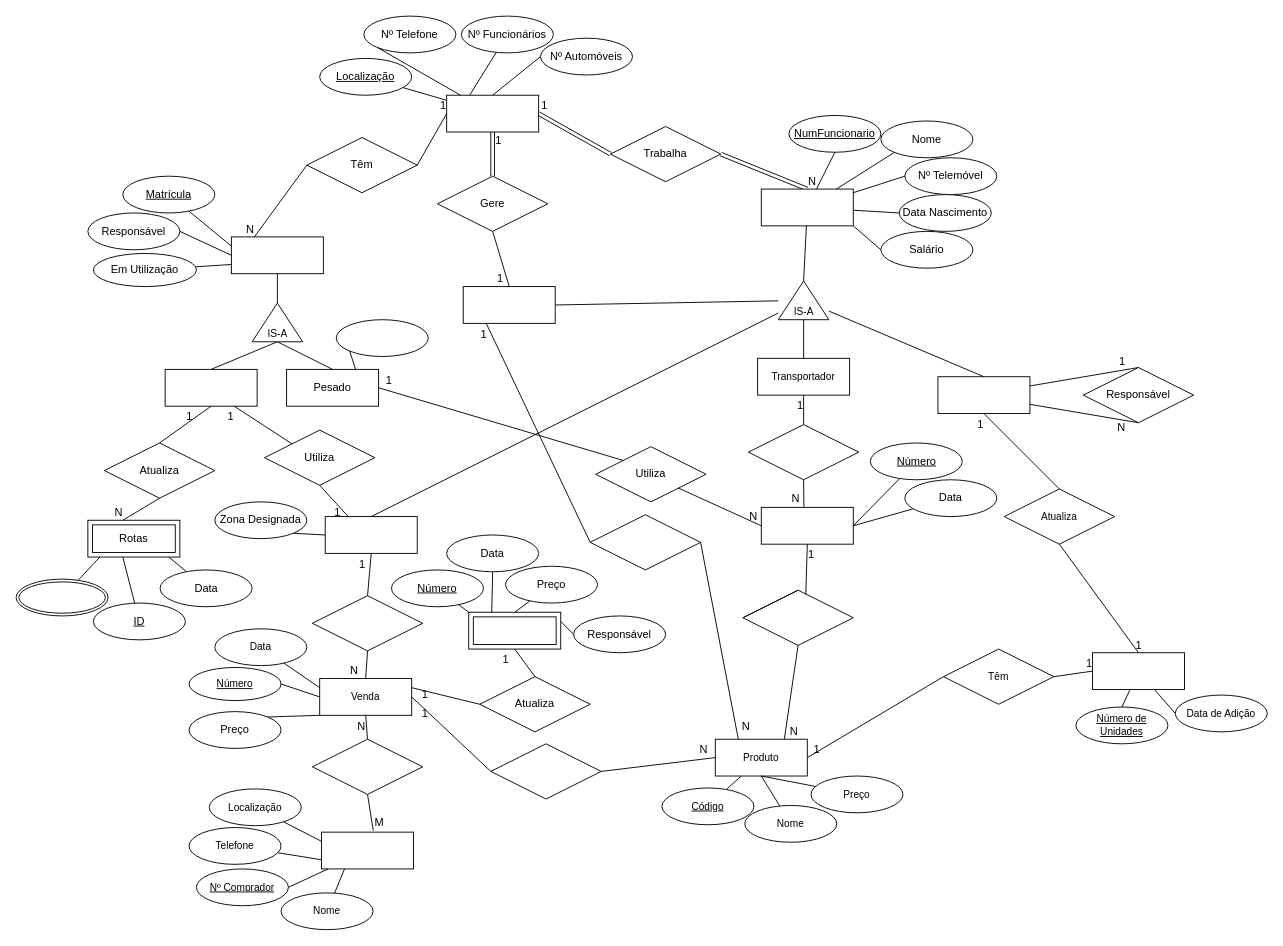
Image size: 1283x946. Some labels were removed from this diagram. The shapes that lost their labels are listed below. From the top down, each one's centre as x and y in pixels, then its label:
point 492,113: Armazém
point 806,207: Funcionário
point 276,255: Automóveis
point 508,304: Gerente
point 381,337: Carga
point 210,387: Ligeiro
point 983,395: Operador
point 803,452: Transporta
point 370,534: Promotor de Vendas
point 645,542: Adiciona
point 806,525: Encomenda
point 61,597: Zonas
point 797,617: Contém
point 367,623: Estabelece
point 514,630: Histórico de Vendas
point 1138,671: Inventário
point 367,766: Ao
point 545,771: Sobre
point 367,850: Comprador
